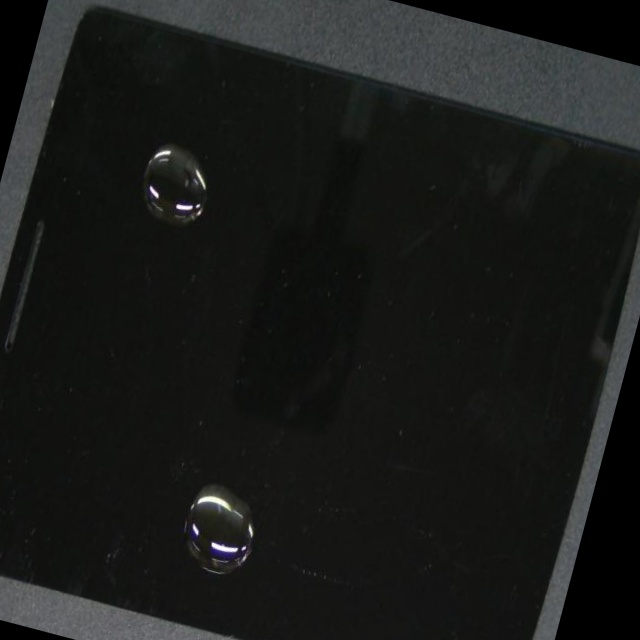oil: (46, 266, 471, 640), (88, 80, 328, 333)
